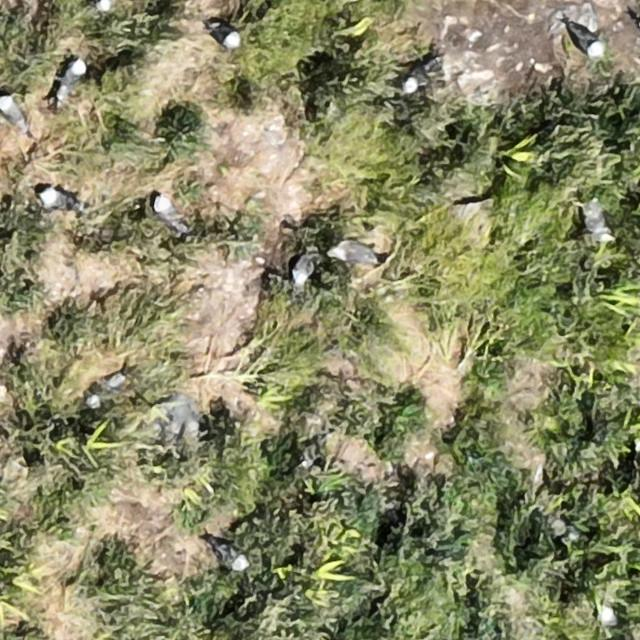umineko: (88, 370, 126, 407), (209, 537, 249, 570), (572, 28, 603, 58), (334, 242, 375, 262), (404, 64, 431, 92), (210, 22, 240, 46), (2, 98, 25, 128), (156, 200, 180, 228), (61, 59, 82, 88), (41, 189, 69, 210), (293, 256, 312, 285), (94, 0, 114, 10)
